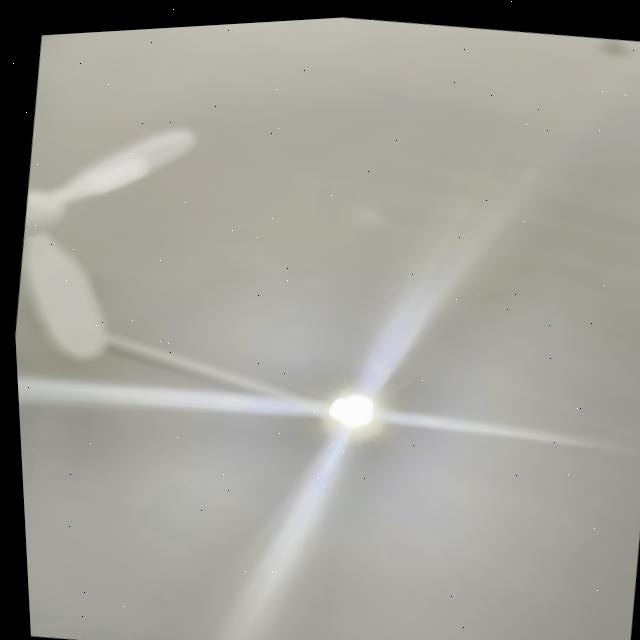fluorescent tube: (292, 356, 429, 480)
